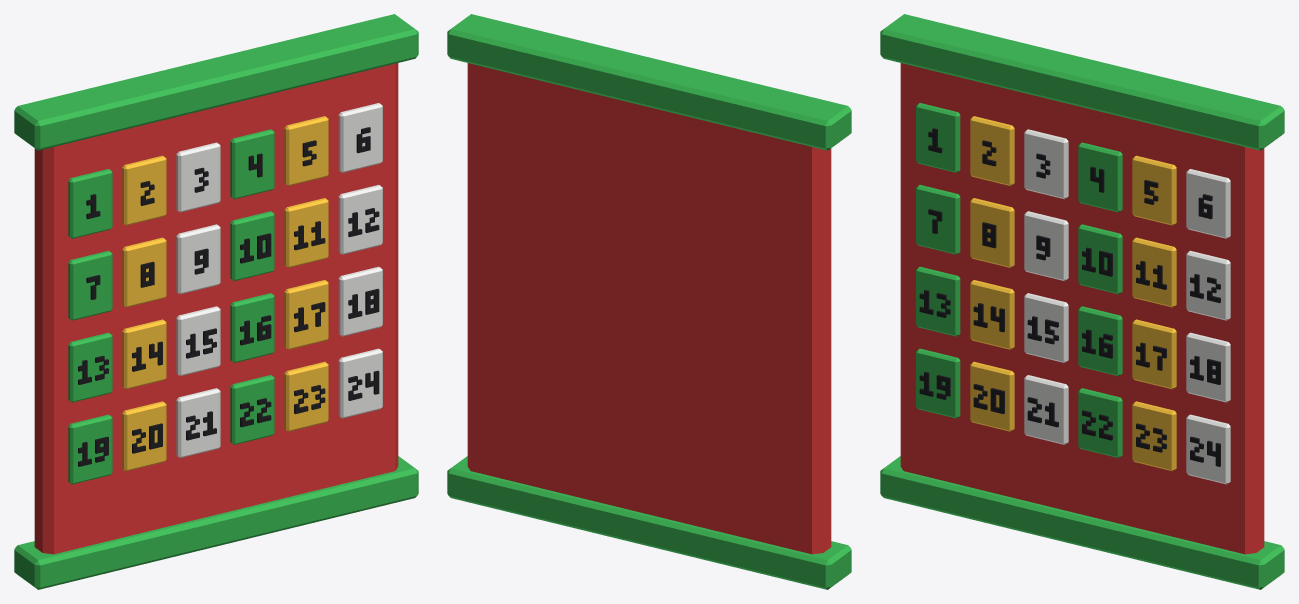
Rendered from AdventCalendar.fbx.
3 views of the same model, side by side, from view 1: azimuth 30°, elevation 25°; view 2: azimuth 150°, elevation 25°; view 3: azimuth 330°, elevation 25° (orthographic).
Parts seen in each view (by area): view 1: AdventCalendar; view 2: AdventCalendar; view 3: AdventCalendar.
Part boxes in pixels (<box>): AdventCalendar: <box>14,14,418,589</box>; AdventCalendar: <box>447,14,851,589</box>; AdventCalendar: <box>880,14,1284,589</box>.
Size of the model in its own units: 5.4 by 6.3 by 0.61.
Materials: 1 (1 with a texture image).
